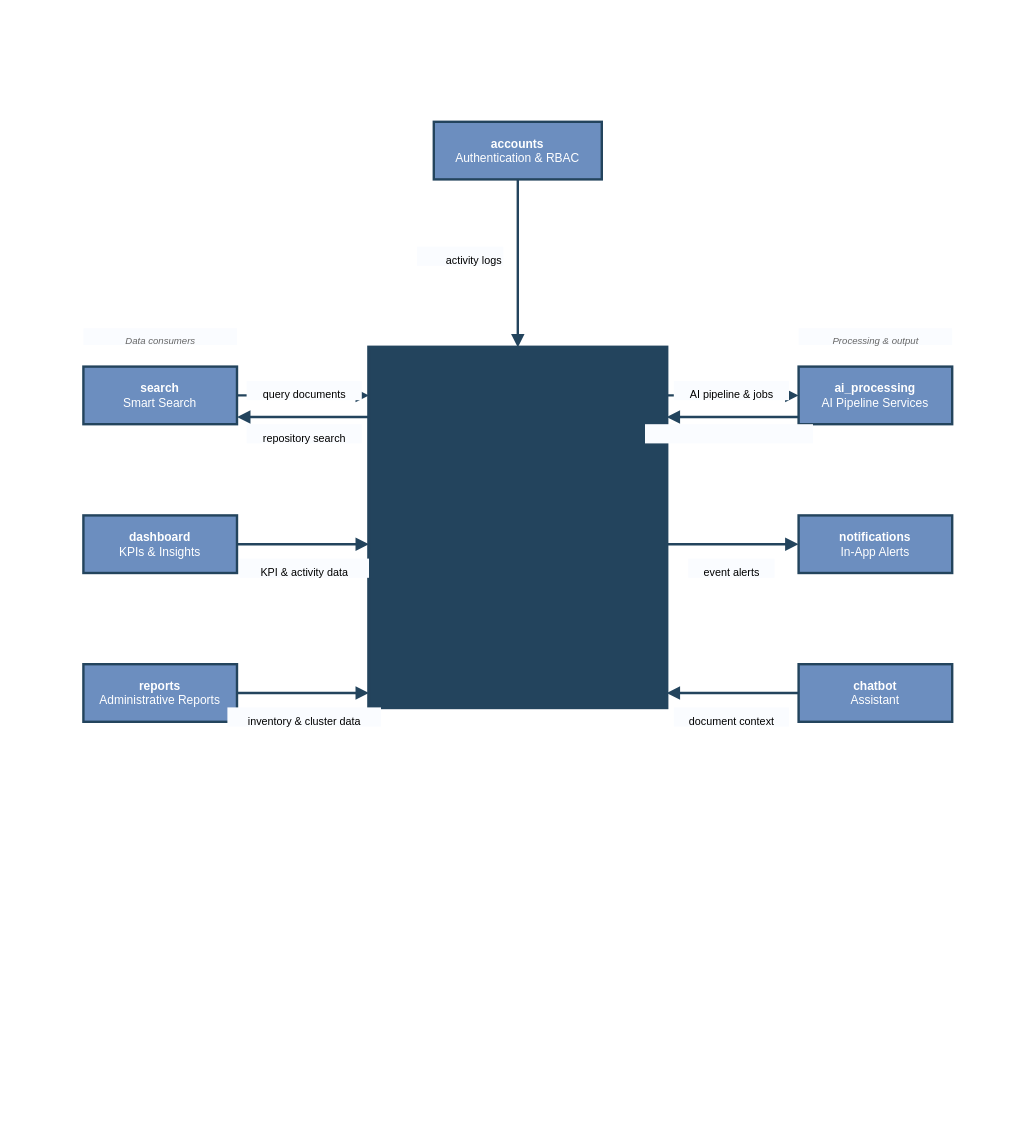
The diagram is 1033 pixels wide and 1145 high, and some of its shapes have lost their labels. The centre of each missing label's shape, as x and y in pixels:
cluster & duplicate updates: (728,433)
documents Core Repository Upload & Processing Pipeline: (517,527)
